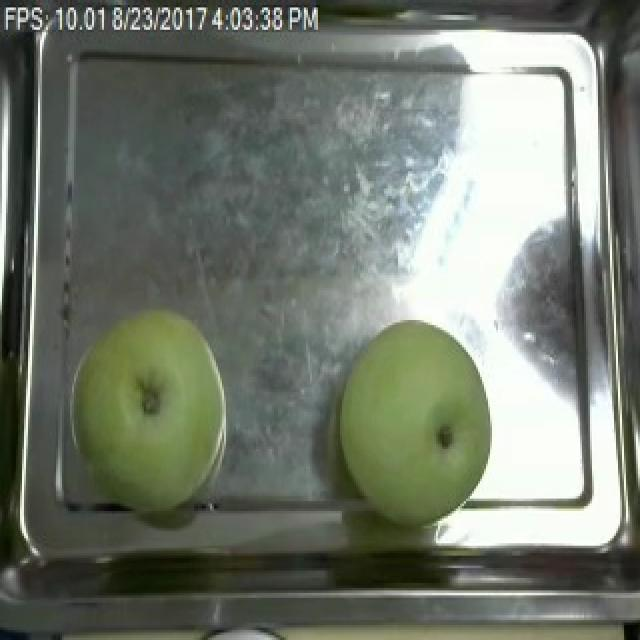50-_ripeness: (330, 306, 515, 528), (65, 304, 239, 524)
